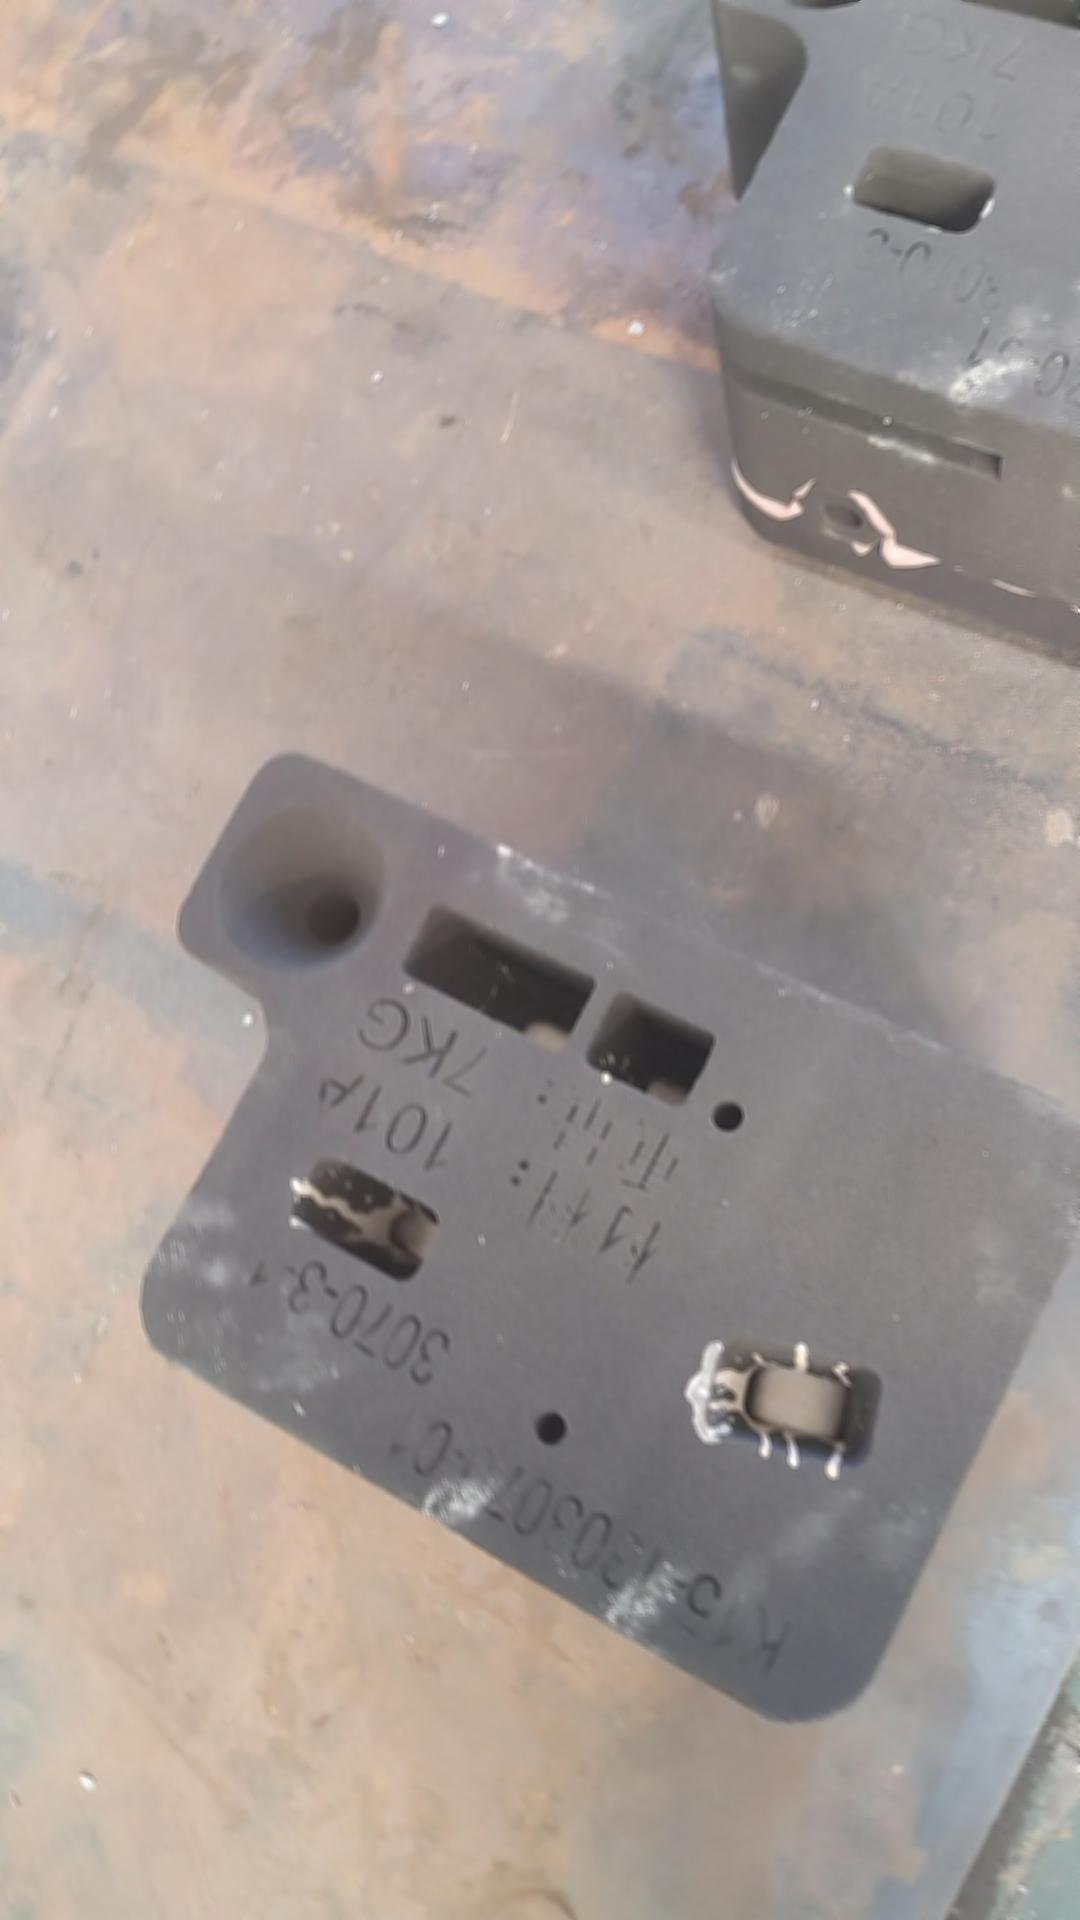pouring hole: (218, 803, 392, 969), (773, 1, 860, 17)
